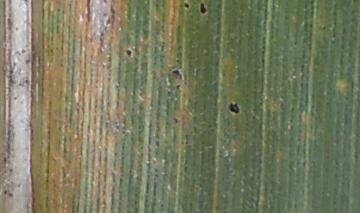tarspot: (228, 101, 241, 114), (199, 2, 209, 15), (172, 69, 183, 80), (125, 48, 133, 57), (183, 1, 191, 9), (23, 56, 31, 64), (172, 117, 181, 124), (20, 47, 27, 55), (8, 191, 14, 199), (3, 188, 9, 196), (174, 83, 181, 89), (166, 88, 171, 96)
